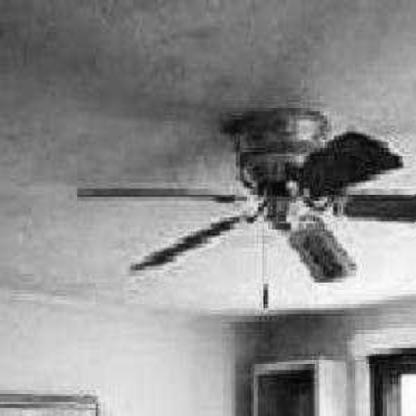ceiling-fan: (77, 108, 415, 284)
